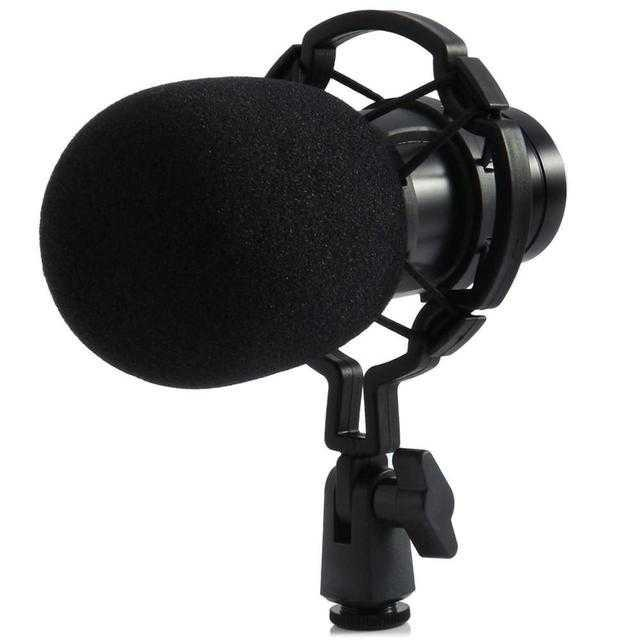microphone: (39, 76, 572, 388)
